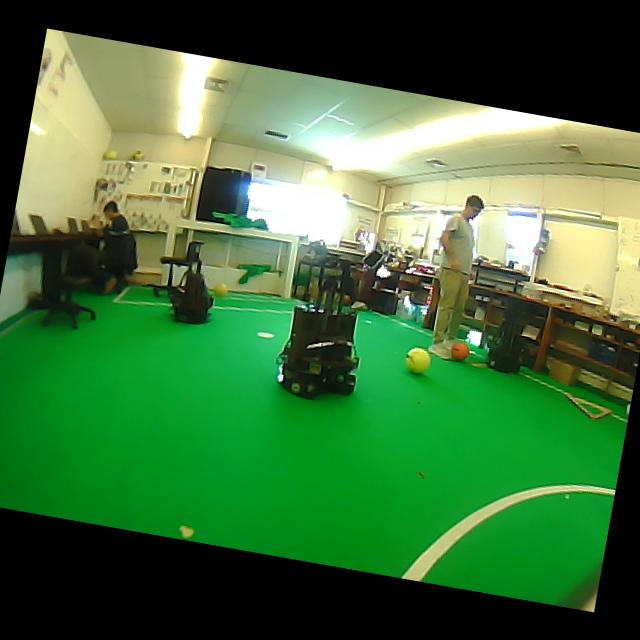ball: (405, 347, 430, 373), (451, 341, 469, 360), (213, 282, 228, 297), (103, 149, 118, 159), (131, 149, 144, 160)
goal: (282, 236, 299, 297)
robot: (278, 308, 358, 397), (170, 241, 212, 323), (487, 298, 527, 373)
